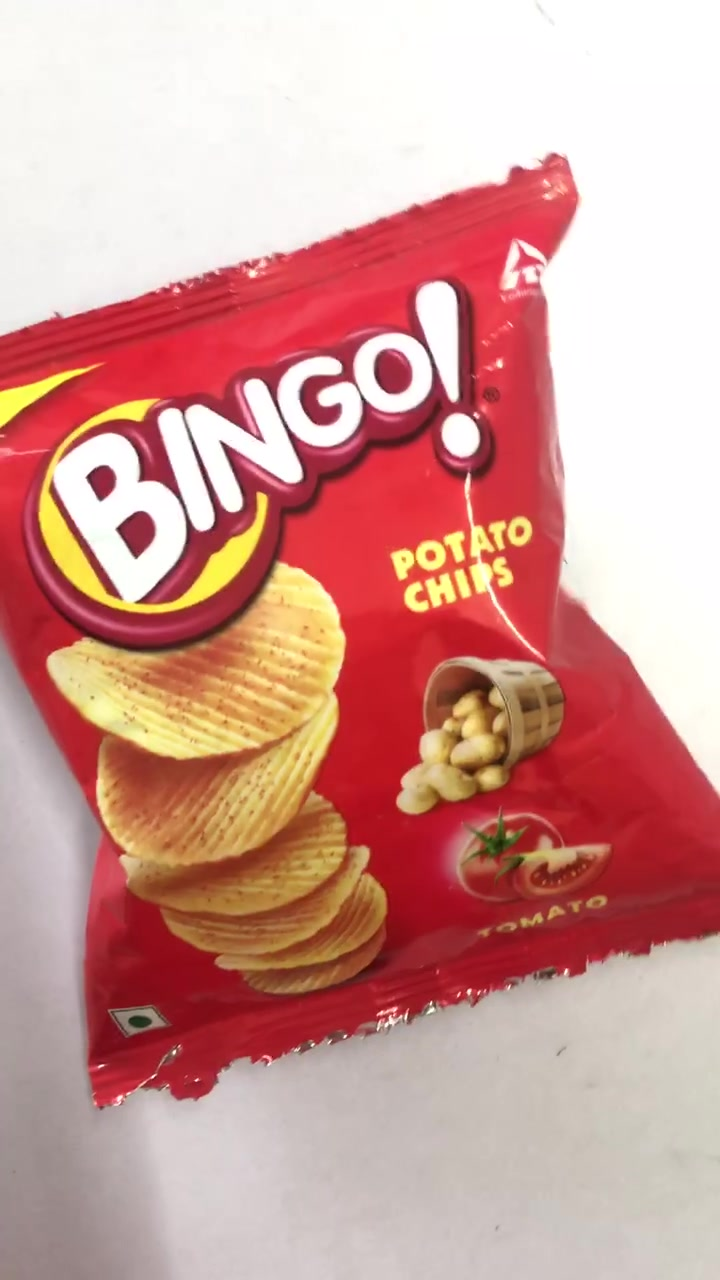Bingo: (3, 212, 720, 1038)
